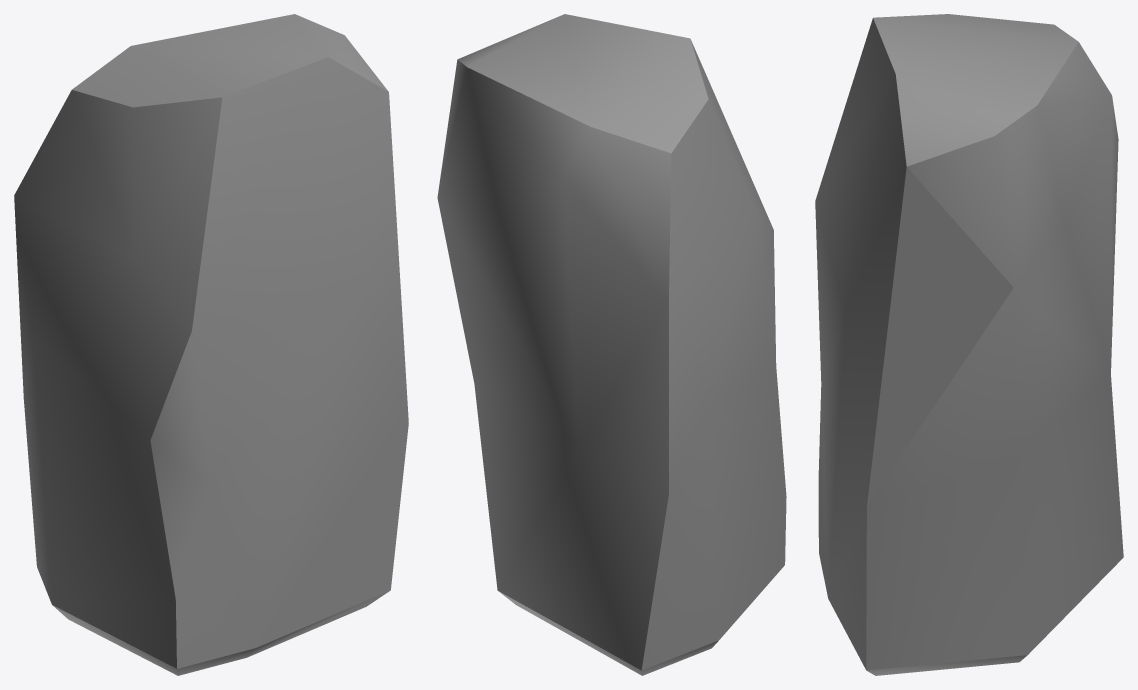
Rendered from Batu3.fbx.
3 views of the same model, side by side, from view 1: azimuth 30°, elevation 25°; view 2: azimuth 150°, elevation 25°; view 3: azimuth 270°, elevation 25° (orthographic). The views are drawn at different scales.
Parts seen in each view (by area): view 1: SM_Rocks_09; view 2: SM_Rocks_09; view 3: SM_Rocks_09.
Part boxes in pixels (box(x1,y1,x2,y2)): SM_Rocks_09: box(14, 14, 408, 675); SM_Rocks_09: box(437, 14, 786, 675); SM_Rocks_09: box(815, 14, 1123, 675).
Size of the model in its own units: 87.9 by 159 by 74.41.
